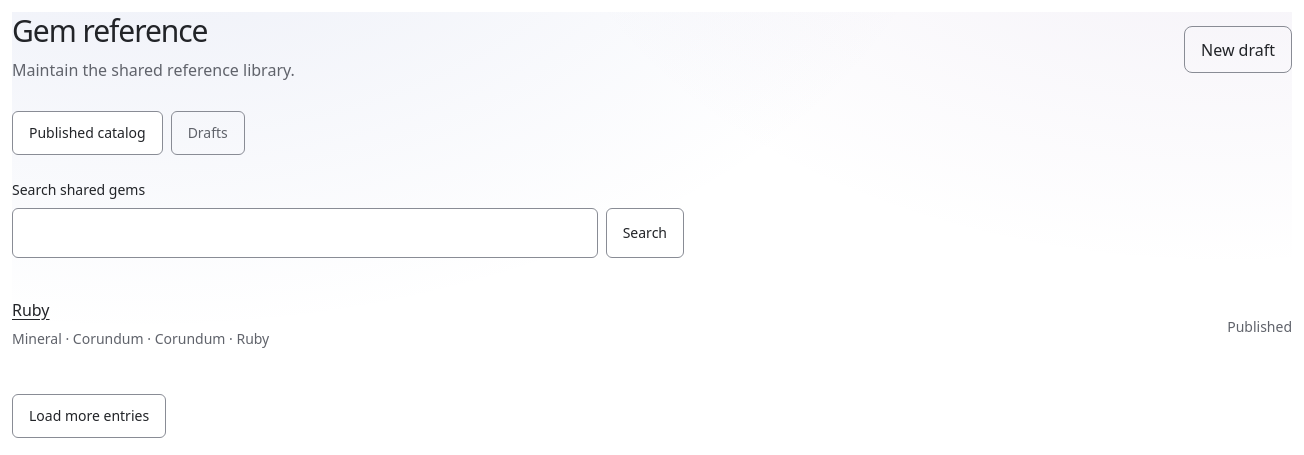
Test case: shared catalog › uses explicit cursor pagination without eagerly loading more entries
WHEN more entries are requested THEN the opaque cursor reaches the server and both pages remain visible.
Step 1. Click the button "Load more entries" → point(89, 416), box [12, 394, 166, 438]
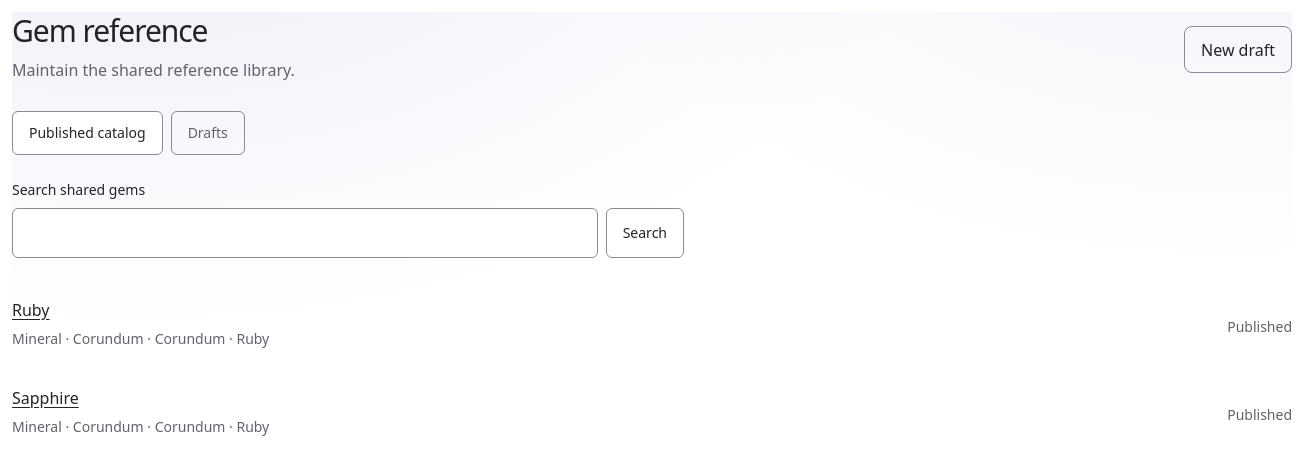
Expected: the link "Ruby" is shown, [12, 299, 50, 321]
Now the link "Sapphire" is shown, box [12, 387, 79, 409]
